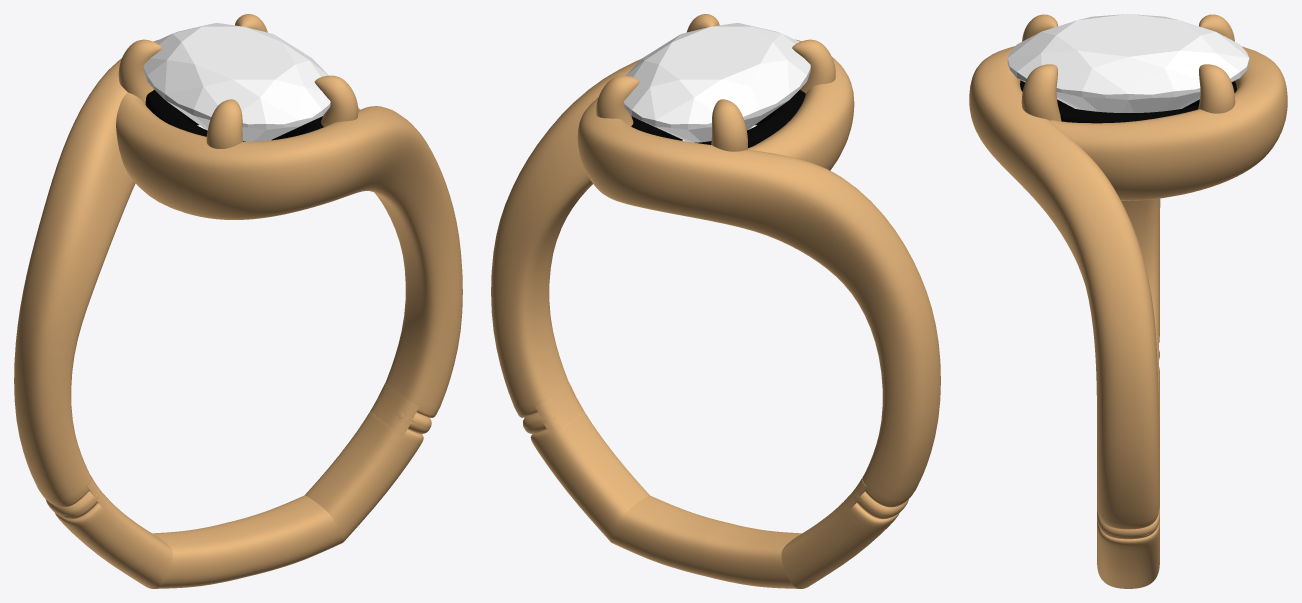
The picture shows the model from 3 angles, left to right: view 1: azimuth 30°, elevation 25°; view 2: azimuth 150°, elevation 25°; view 3: azimuth 270°, elevation 25°; orthographic projection.
Parts seen in each view (by area): view 1: A144_2ct_Oval_NS3dm, CenterStone_(7*10*455mm)Oval, JewelCAD_1, JewelCAD_2; view 2: A144_2ct_Oval_NS3dm, CenterStone_(7*10*455mm)Oval, JewelCAD_1, JewelCAD_2; view 3: A144_2ct_Oval_NS3dm, CenterStone_(7*10*455mm)Oval, JewelCAD.
Part boxes in pixels (left/top/right/bottom): A144_2ct_Oval_NS3dm: left=14, top=14, right=462, bottom=588; CenterStone_(7*10*455mm)Oval: left=143, top=22, right=330, bottom=141; JewelCAD_1: left=370, top=383, right=419, bottom=436; JewelCAD_2: left=45, top=487, right=100, bottom=519; A144_2ct_Oval_NS3dm: left=491, top=14, right=940, bottom=588; CenterStone_(7*10*455mm)Oval: left=623, top=22, right=810, bottom=142; JewelCAD_1: left=535, top=383, right=585, bottom=436; JewelCAD_2: left=854, top=487, right=908, bottom=519; A144_2ct_Oval_NS3dm: left=969, top=14, right=1287, bottom=588; CenterStone_(7*10*455mm)Oval: left=1007, top=14, right=1249, bottom=112; JewelCAD: left=1097, top=508, right=1159, bottom=539.
Size of the model in its own units: 2.44 by 2.77 by 1.54.
